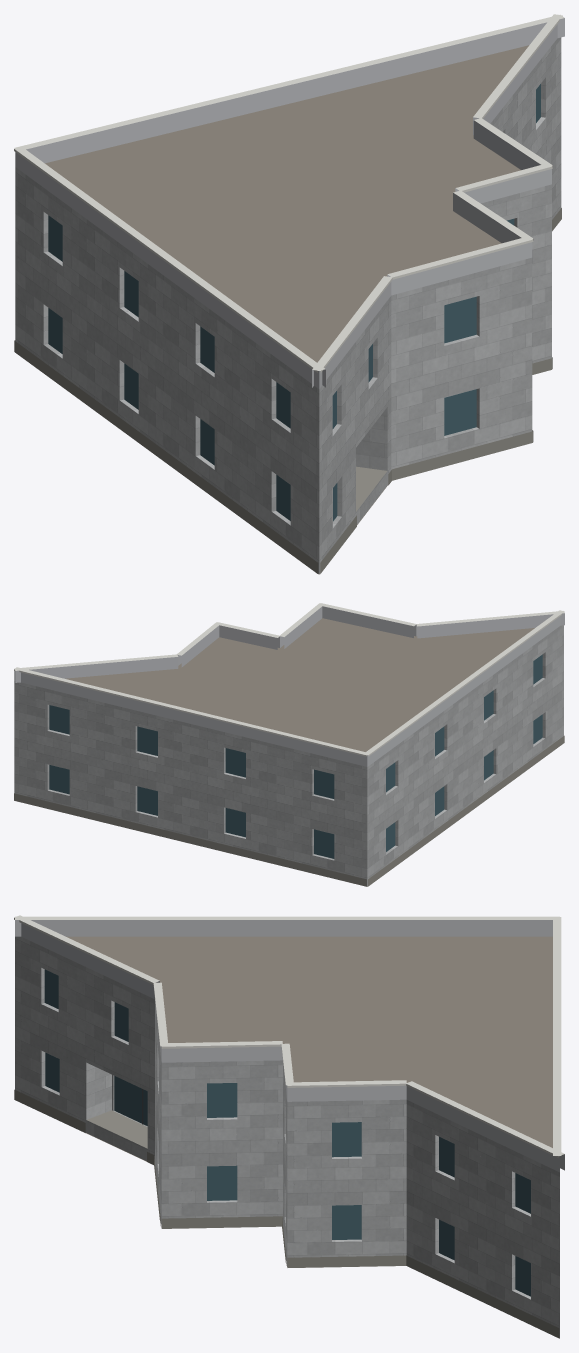
3 renders of one model, top to bottom at view 1: azimuth 30°, elevation 25°; view 2: azimuth 150°, elevation 25°; view 3: azimuth 270°, elevation 25°, orthographic. The views are drawn at different scales.
Parts seen in each view (by area): view 1: yeonmin__wall, yeonmin__roof, yeonmin__parapet, yeonmin__trim, yeonmin__glass, yeonmin__base; view 2: yeonmin__wall, yeonmin__roof, yeonmin__parapet, yeonmin__glass, yeonmin__trim, yeonmin__base; view 3: yeonmin__wall, yeonmin__roof, yeonmin__parapet, yeonmin__glass, yeonmin__trim, yeonmin__base.
Part boxes in pixels (x1,y1,x2,y2): yeonmin__wall: (15, 37, 561, 573); yeonmin__roof: (45, 45, 528, 574); yeonmin__parapet: (15, 18, 564, 388); yeonmin__trim: (14, 14, 564, 372); yeonmin__glass: (48, 84, 540, 521); yeonmin__base: (14, 208, 561, 573); yeonmin__wall: (14, 625, 563, 886); yeonmin__roof: (65, 618, 534, 886); yeonmin__parapet: (14, 606, 564, 766); yeonmin__glass: (49, 654, 542, 858); yeonmin__trim: (14, 603, 564, 756); yeonmin__base: (14, 735, 564, 886); yeonmin__wall: (15, 936, 559, 1338); yeonmin__roof: (66, 936, 559, 1338); yeonmin__parapet: (15, 920, 564, 1172); yeonmin__glass: (44, 969, 530, 1296); yeonmin__trim: (14, 915, 564, 1158); yeonmin__base: (14, 1089, 559, 1338).
Bounding box in the file's own units: 24.94 × 8.82 × 24.09.
8 materials, 1 textured.
